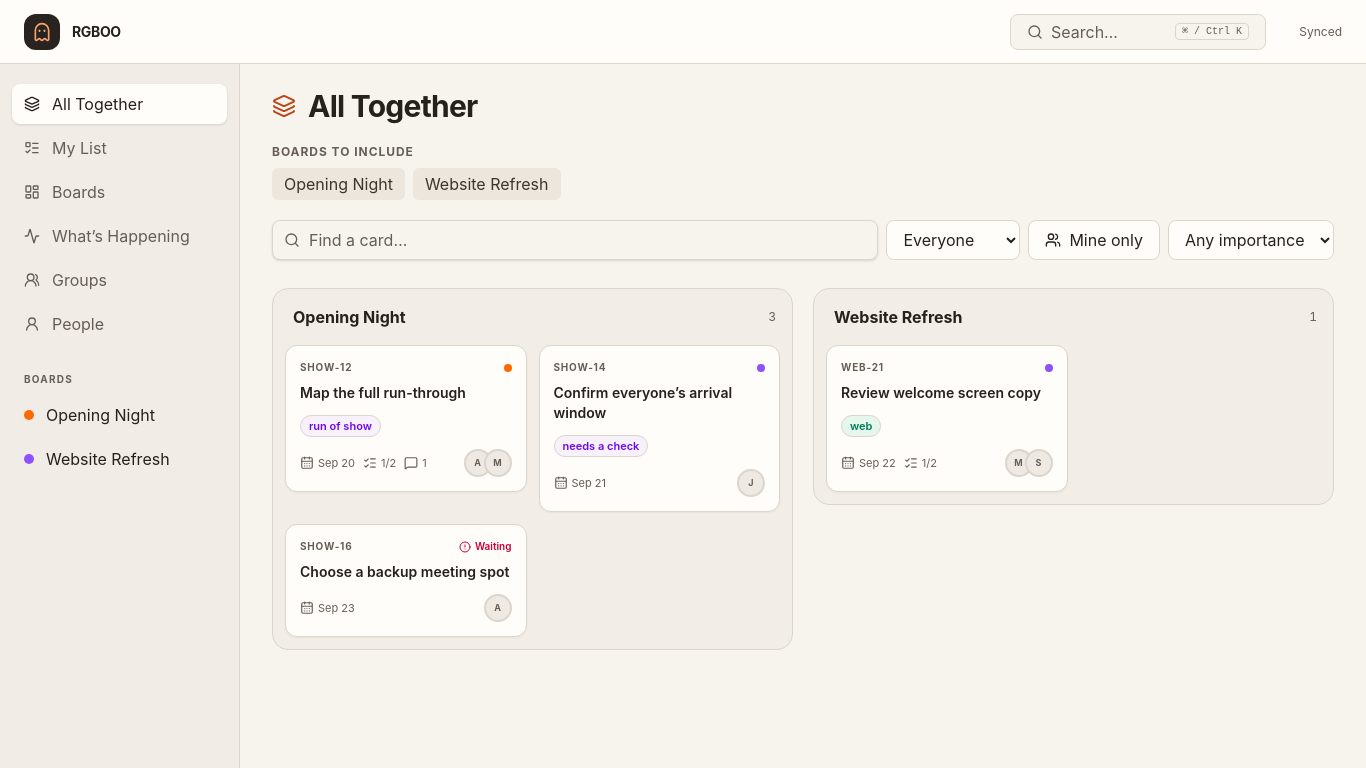
Scenario: The Board › hides board creation and deletion from members without organizer permissions
Expected: the heading "All Together" is shown, [308, 88, 478, 124]
Click the button with aria-label "open show-12": {"x": 406, "y": 418} [285, 345, 526, 492]
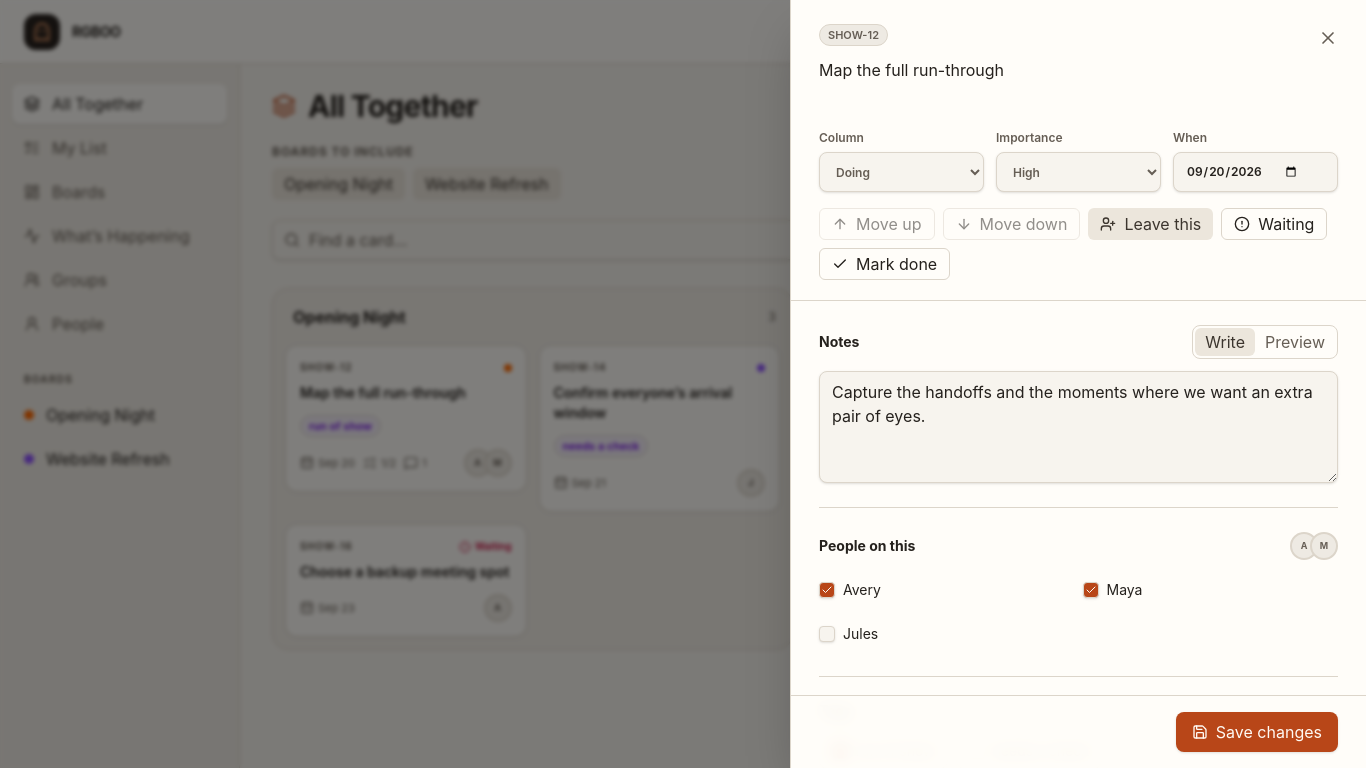
Result: the text box named "Card title" is shown at [819, 54, 1290, 110]
